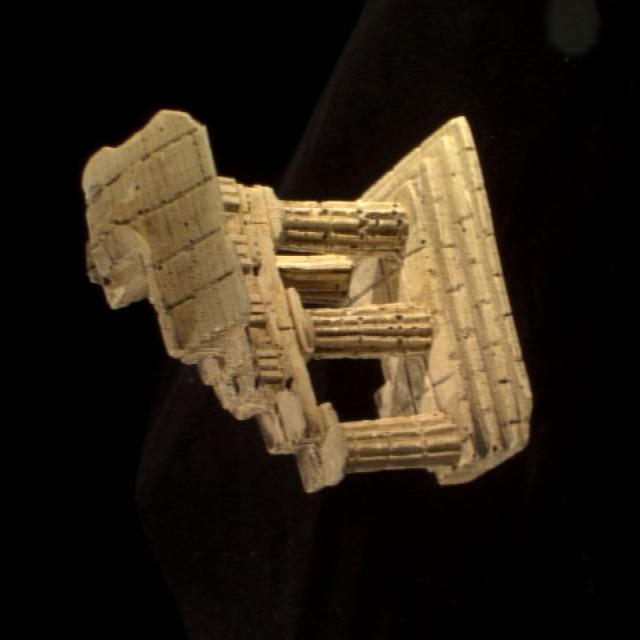Instance-Segmentation: (83, 109, 531, 491)
